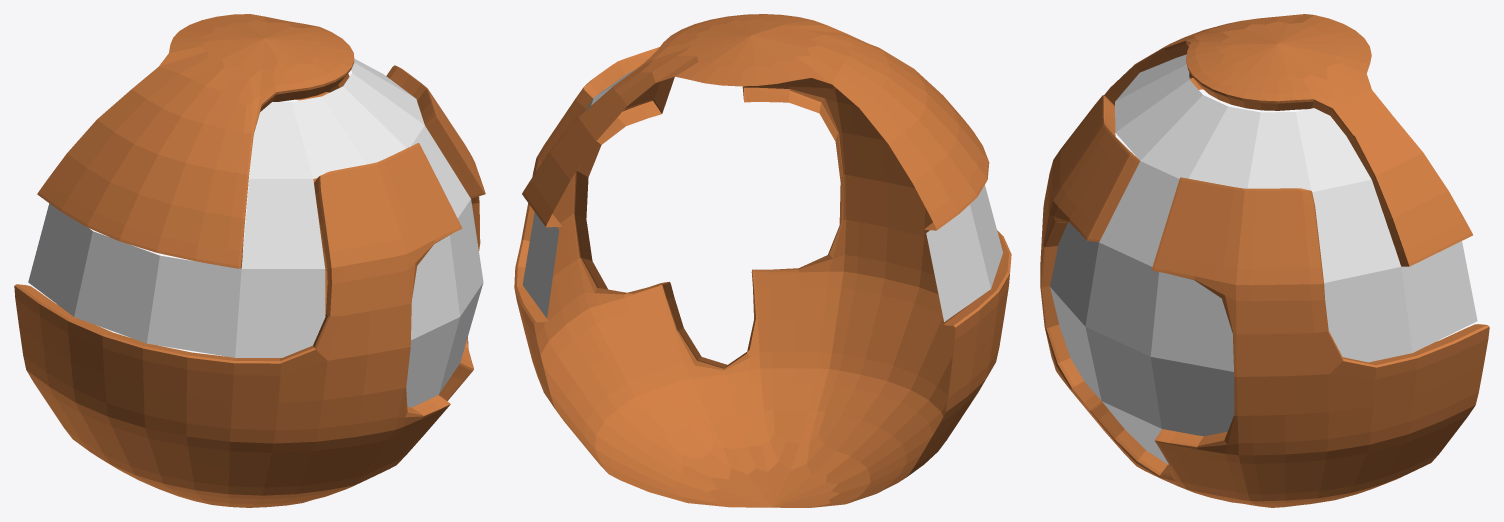
Rendered from skills-planet.glb.
The picture shows the model from 3 angles, left to right: view 1: azimuth 30°, elevation 25°; view 2: azimuth 150°, elevation 25°; view 3: azimuth 270°, elevation 25°; orthographic projection. The views are drawn at different scales.
Visible parts, largest first — view 1: Sphere, Sphere.001; view 2: Sphere, Sphere.001; view 3: Sphere, Sphere.001.
Part boxes in pixels (x1,y1,x2,y2): Sphere: [14, 14, 485, 507]; Sphere.001: [28, 58, 483, 407]; Sphere: [514, 14, 1011, 507]; Sphere.001: [522, 69, 1002, 321]; Sphere: [1040, 14, 1489, 507]; Sphere.001: [1050, 54, 1477, 464].
Size of the model in its own units: 5.78 by 5.85 by 5.35.
